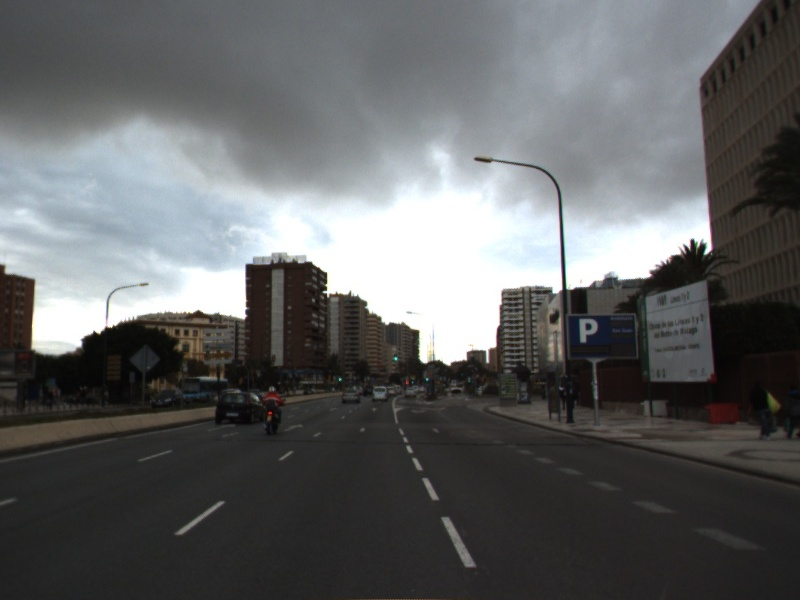STRAIGHT: (205, 421, 238, 434), (281, 421, 306, 433)
